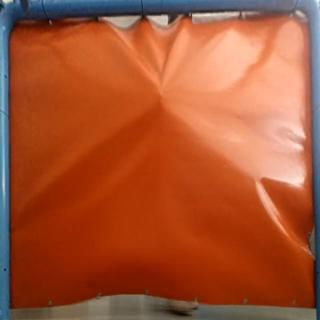Hit-hRxx: (150, 88, 169, 106)
